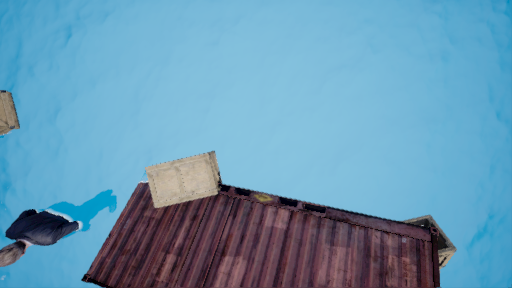person: (1, 186, 113, 268)
